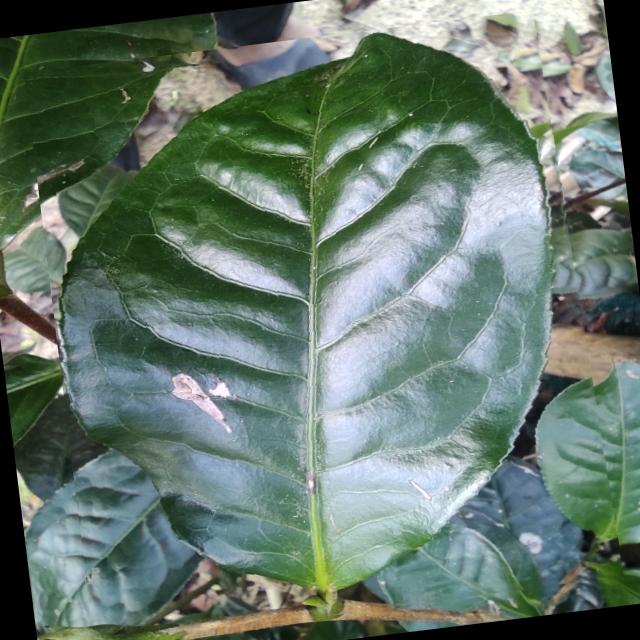Category D(7+ days, Not for Tea): (23, 6, 624, 640)
